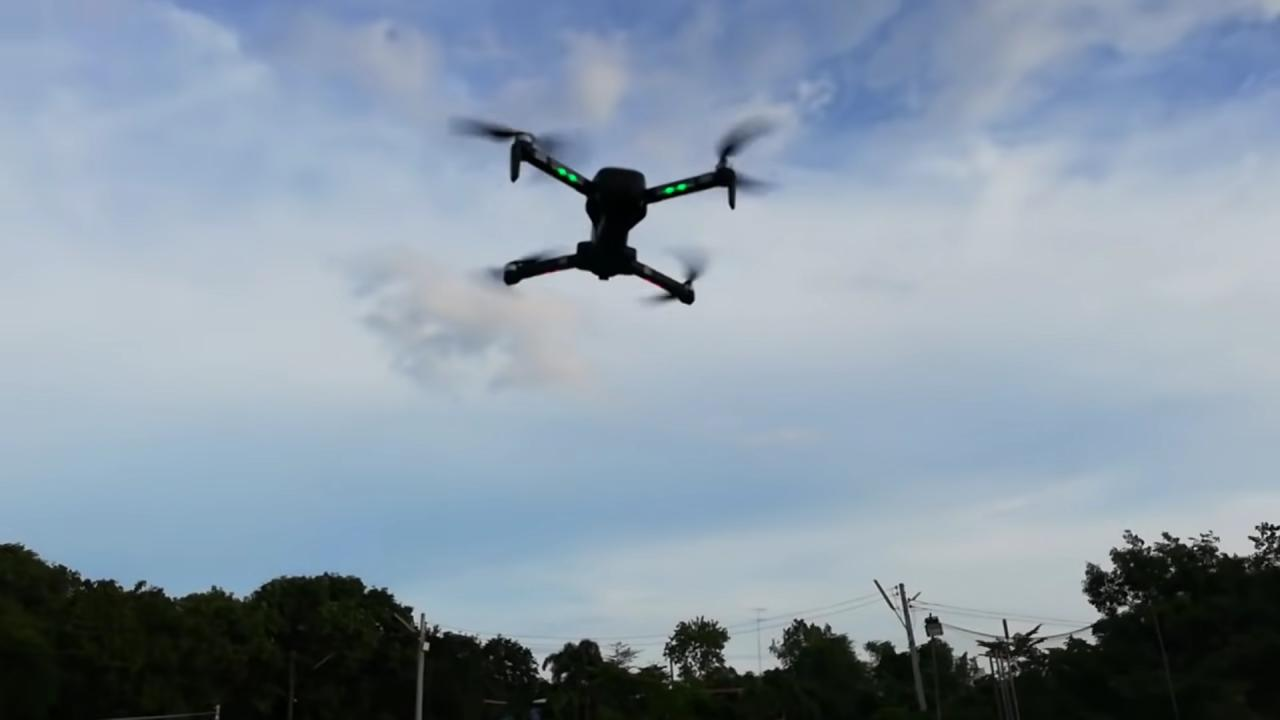Drone: (437, 97, 791, 322)
